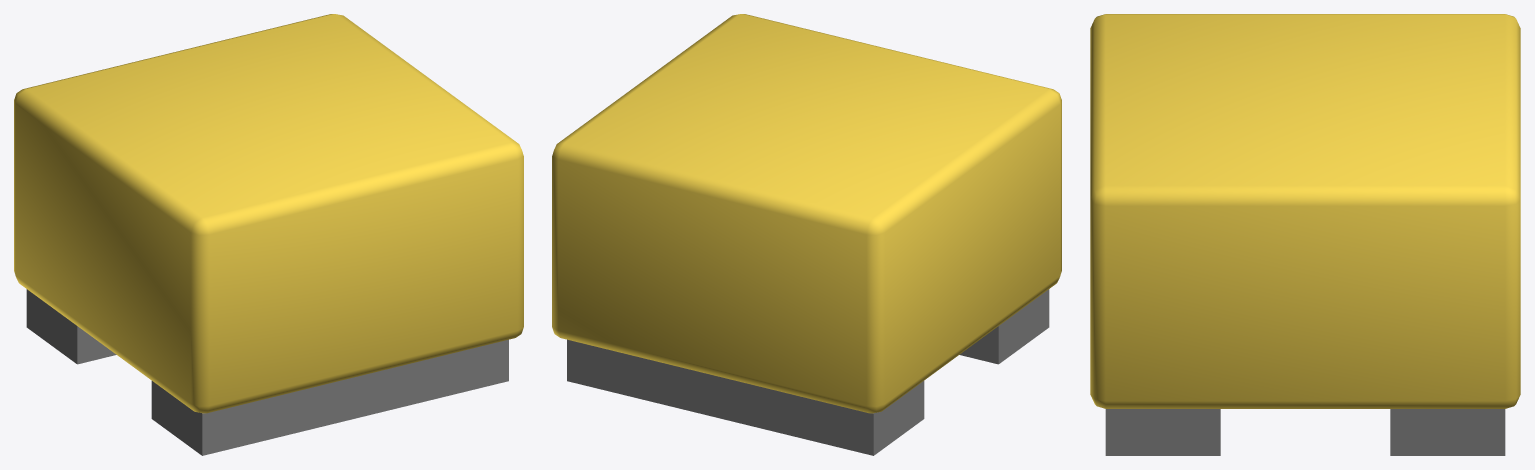
The model's file is Armchair_01_Ottoman.fbx.
3 views of the same model, side by side, from view 1: azimuth 30°, elevation 25°; view 2: azimuth 150°, elevation 25°; view 3: azimuth 270°, elevation 25° (orthographic). The views are drawn at different scales.
Visible parts, largest first — view 1: Sofa_Ottoman; view 2: Sofa_Ottoman; view 3: Sofa_Ottoman.
Part boxes in pixels (x1,y1,x2,y2): Sofa_Ottoman: (14,14,523,455); Sofa_Ottoman: (552,14,1061,455); Sofa_Ottoman: (1090,14,1520,455).
Size of the model in its own units: 60.14 by 41.29 by 59.37.
